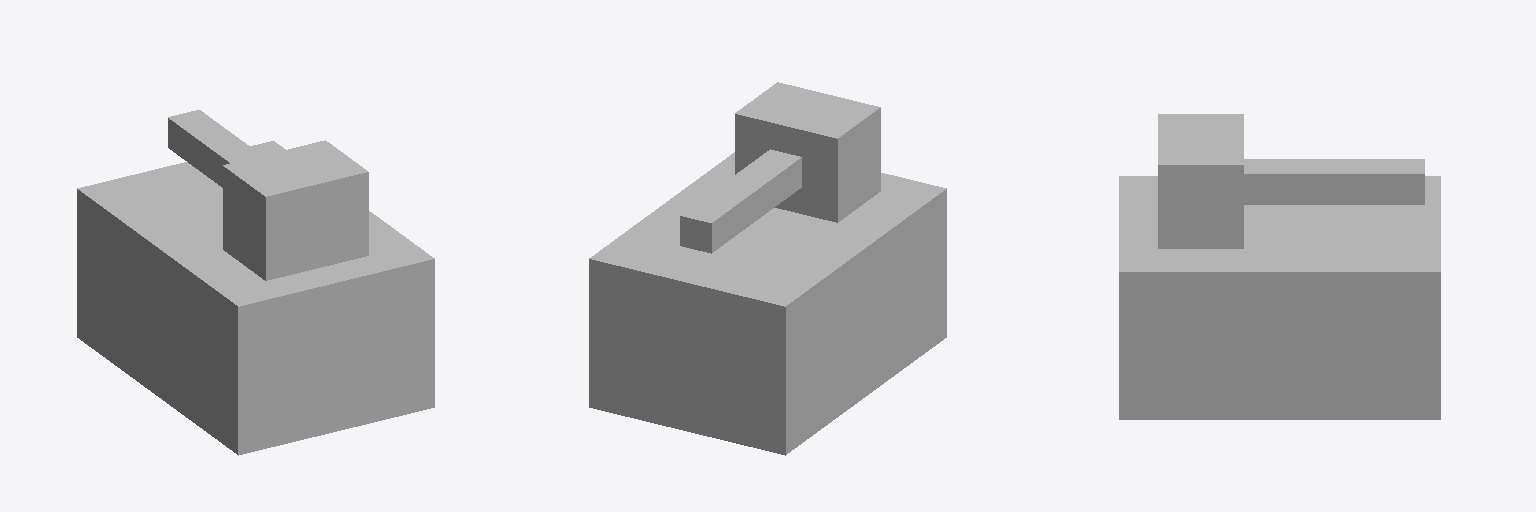
The model's file is boxes.obj.
The picture shows the model from 3 angles: view 1: azimuth 30°, elevation 25°; view 2: azimuth 150°, elevation 25°; view 3: azimuth 270°, elevation 25°; orthographic projection.
Visible parts, largest first — view 1: Cube_Cube.001; view 2: Cube_Cube.001; view 3: Cube_Cube.001.
Part boxes in pixels (x1,y1,x2,y2): Cube_Cube.001: (77, 110, 434, 455); Cube_Cube.001: (589, 82, 946, 455); Cube_Cube.001: (1119, 114, 1440, 419).
Size of the model in its own units: 2.76 by 3.13 by 3.93.